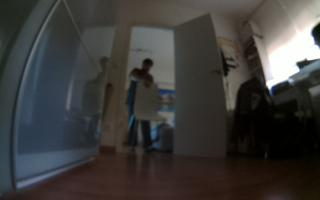person: (124, 56, 162, 159)
